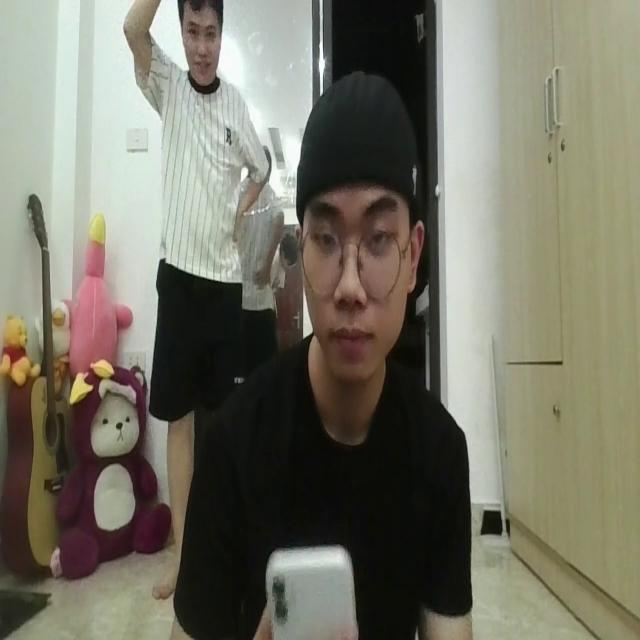extra_person: (125, 0, 267, 423)
phone: (264, 537, 362, 640)
student: (169, 71, 473, 640)
